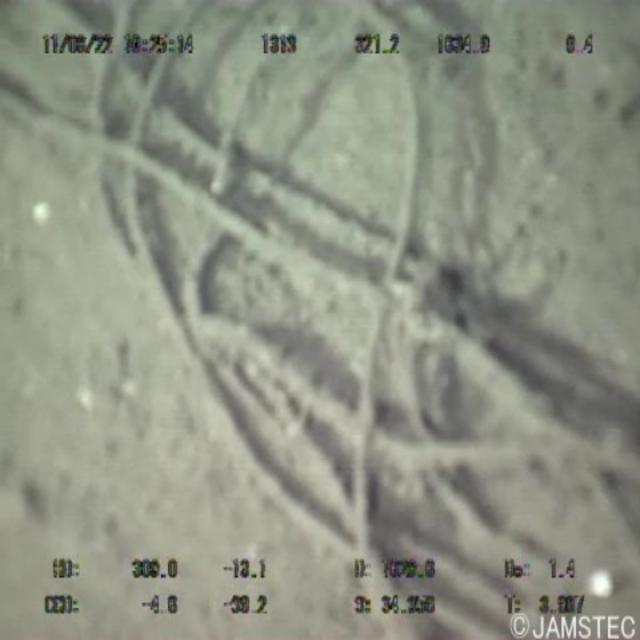Rope: (35, 3, 640, 611)
